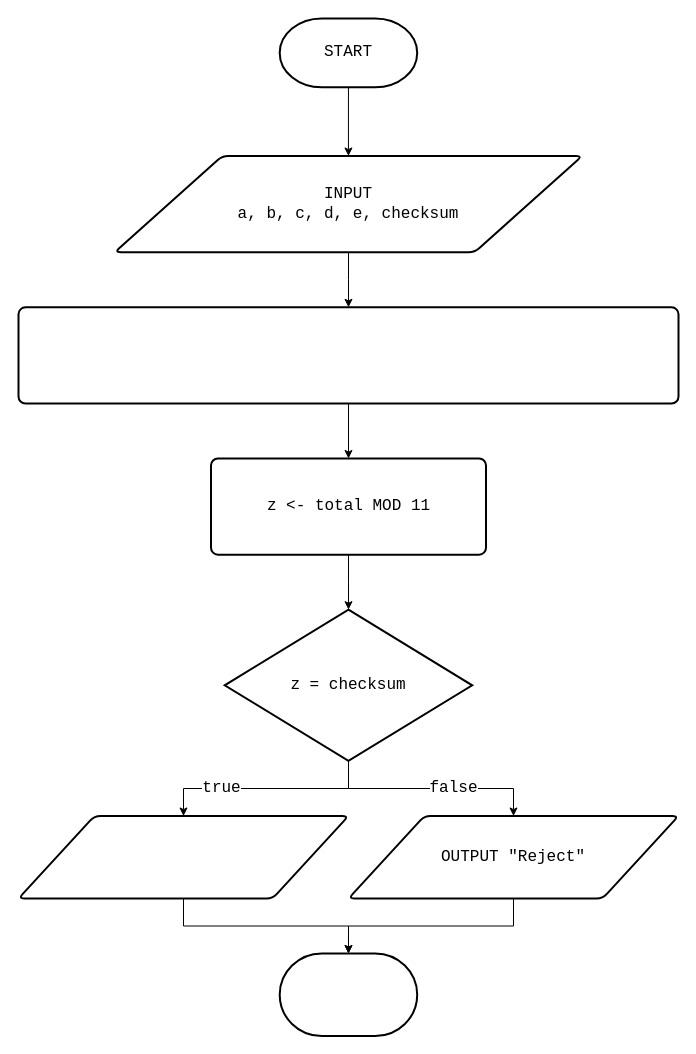
This 696x1054 diagram has some shape labels left out. Here are the shapes that lost their labels. From the top down, the centre of each, then its label:
(348,355): total <- a * 1 + b * 2 + c * 3 + d * 4 + e * 5
(183,856): OUTPUT "Accept"
(348,994): END
